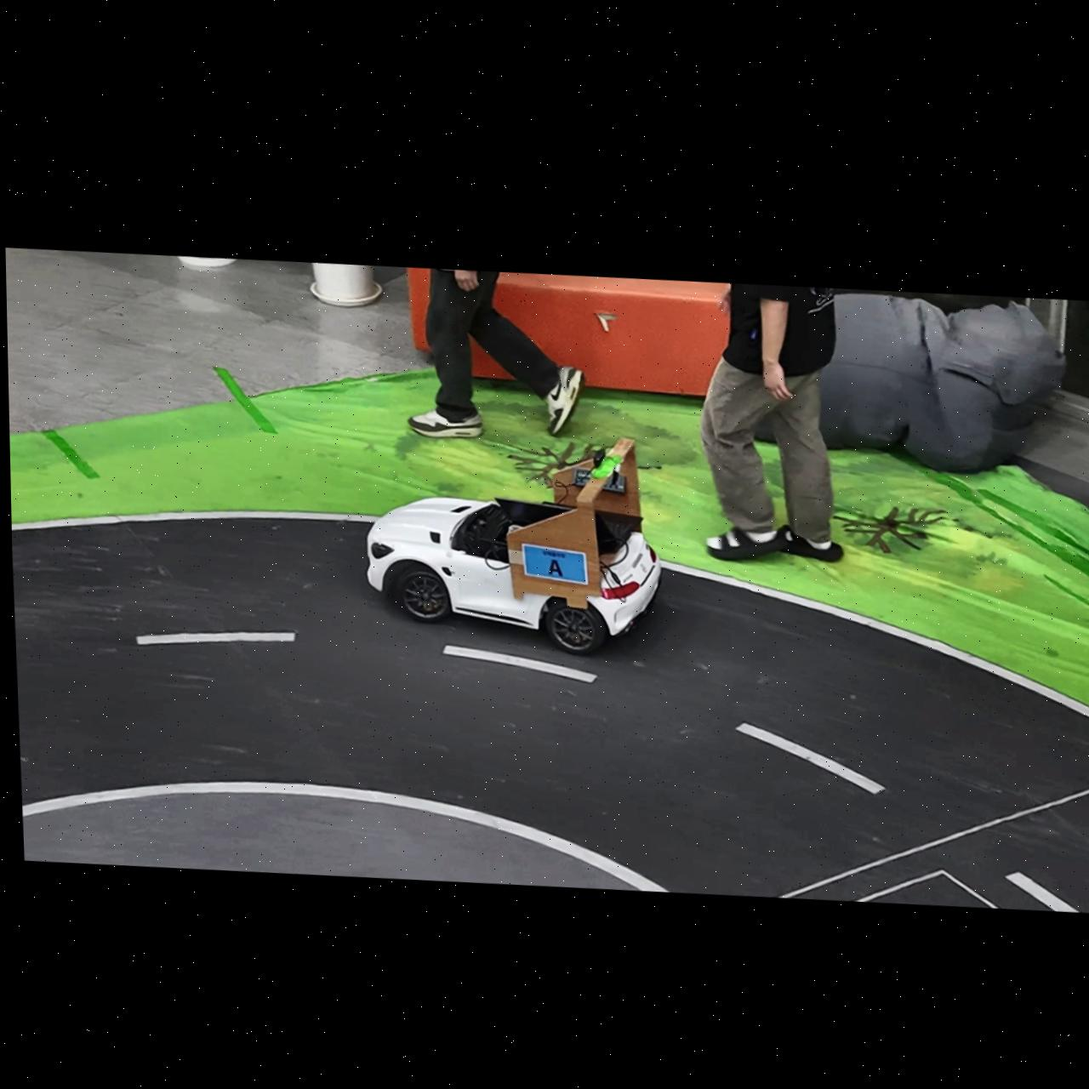broken_line: (736, 723, 884, 794), (443, 645, 597, 683), (1006, 872, 1078, 912), (137, 632, 294, 645)
